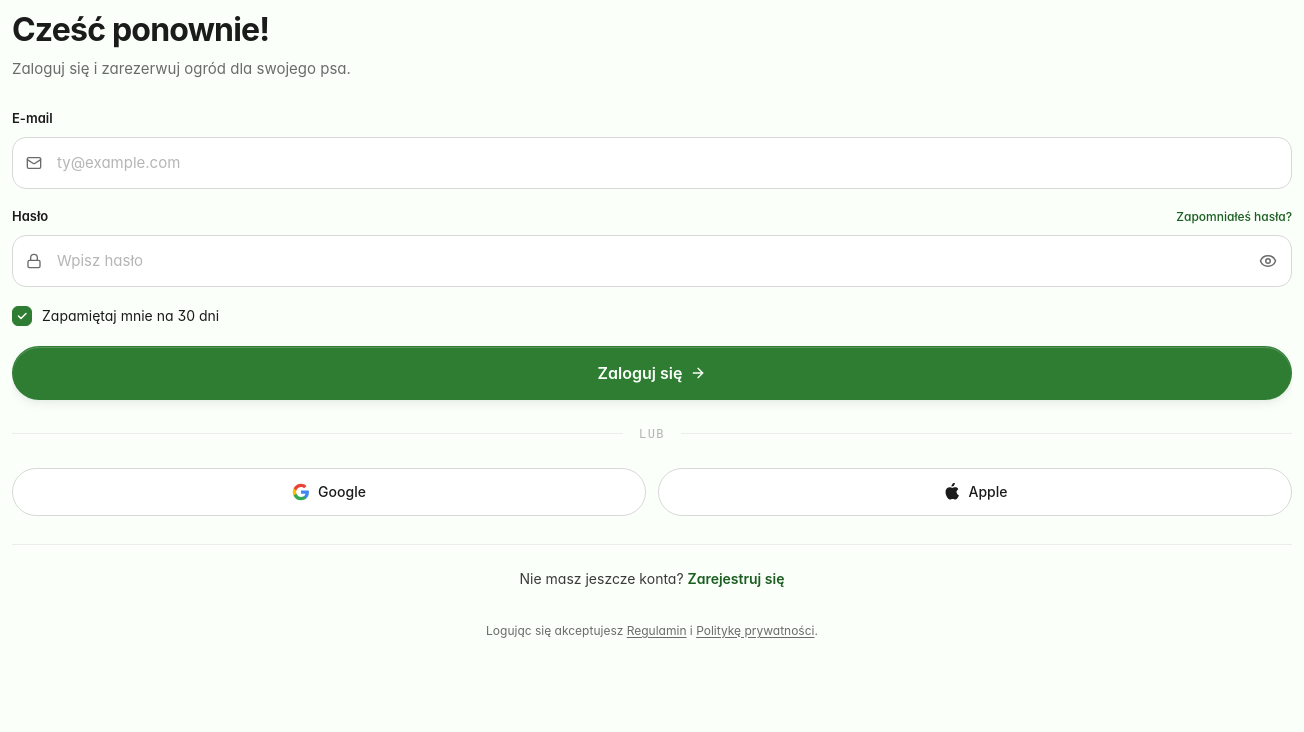
Test case: LoginPage › shows a Polish banner on bad credentials (401)
Type "kasia@example.pl" into the field labelled "E-mail".
click(652, 163); type("kasia@example.pl")  # box x1=12 y1=137 x2=1292 y2=189
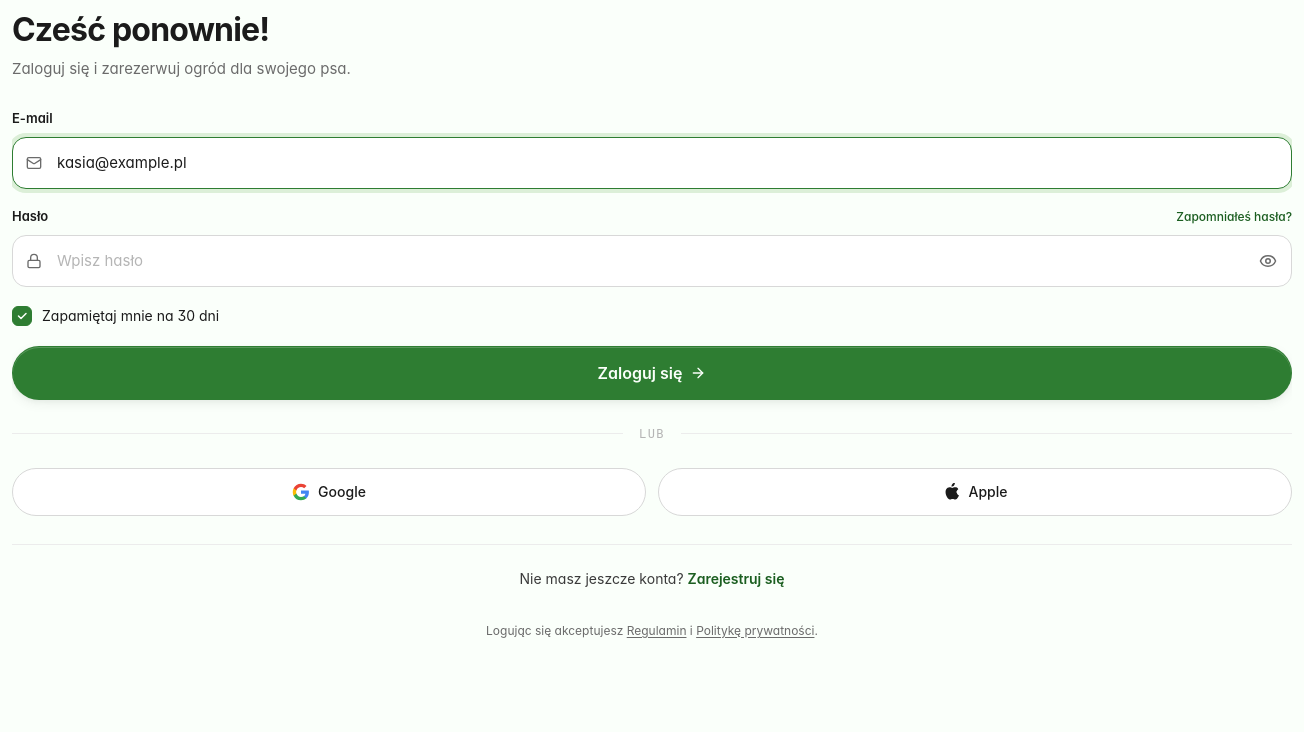
Type "wrong-pass" into the password field labelled "Hasło Zapomniałeś hasła?".
click(652, 261); type("wrong-pass")  # box x1=12 y1=235 x2=1292 y2=287
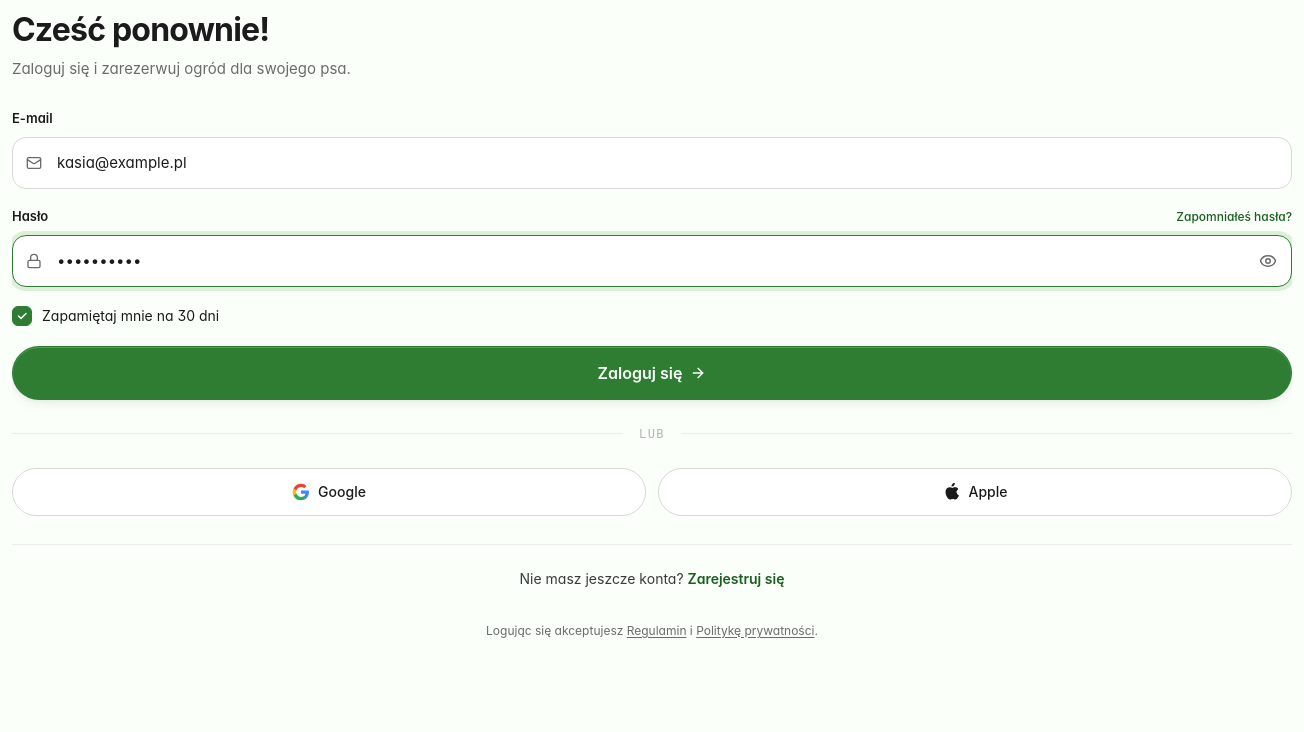
Click the button "Zaloguj się".
click(652, 373)  # box x1=12 y1=346 x2=1292 y2=400
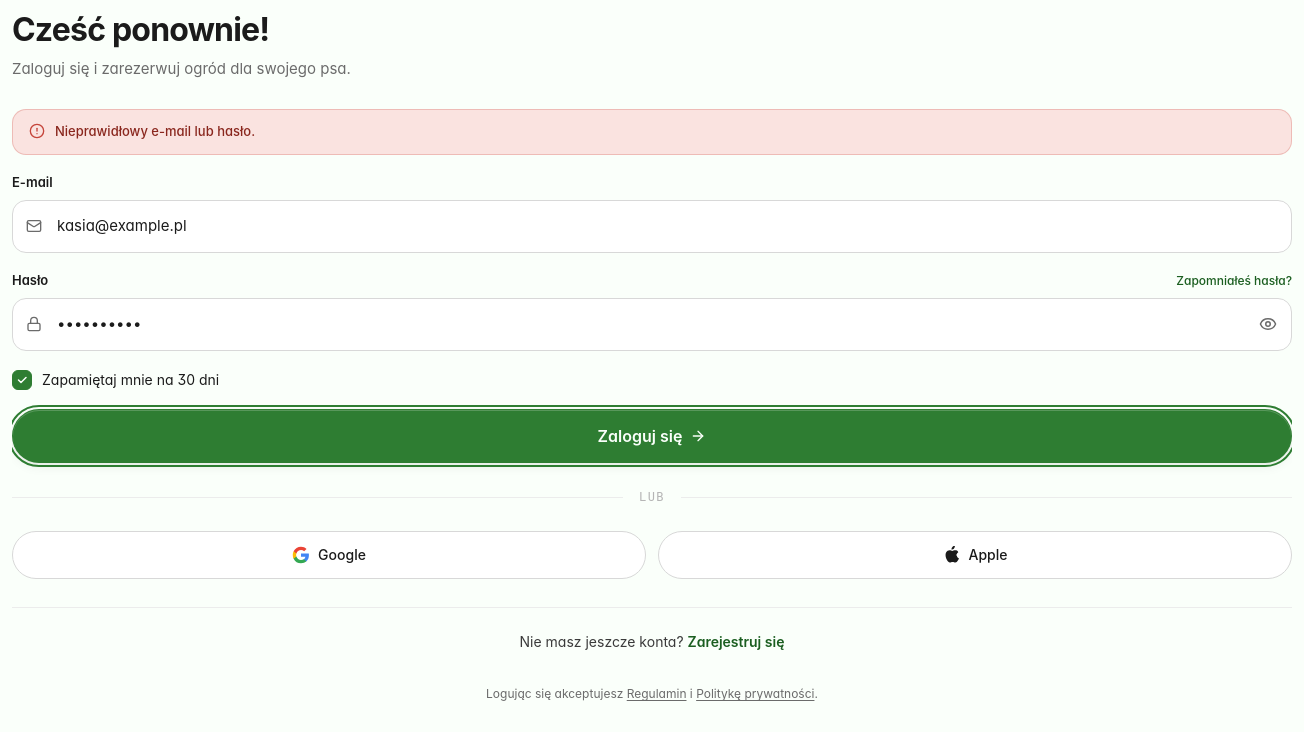
Expected: the message reads "Nieprawidłowy e-mail lub hasło.", x1=55 y1=123 x2=255 y2=139
